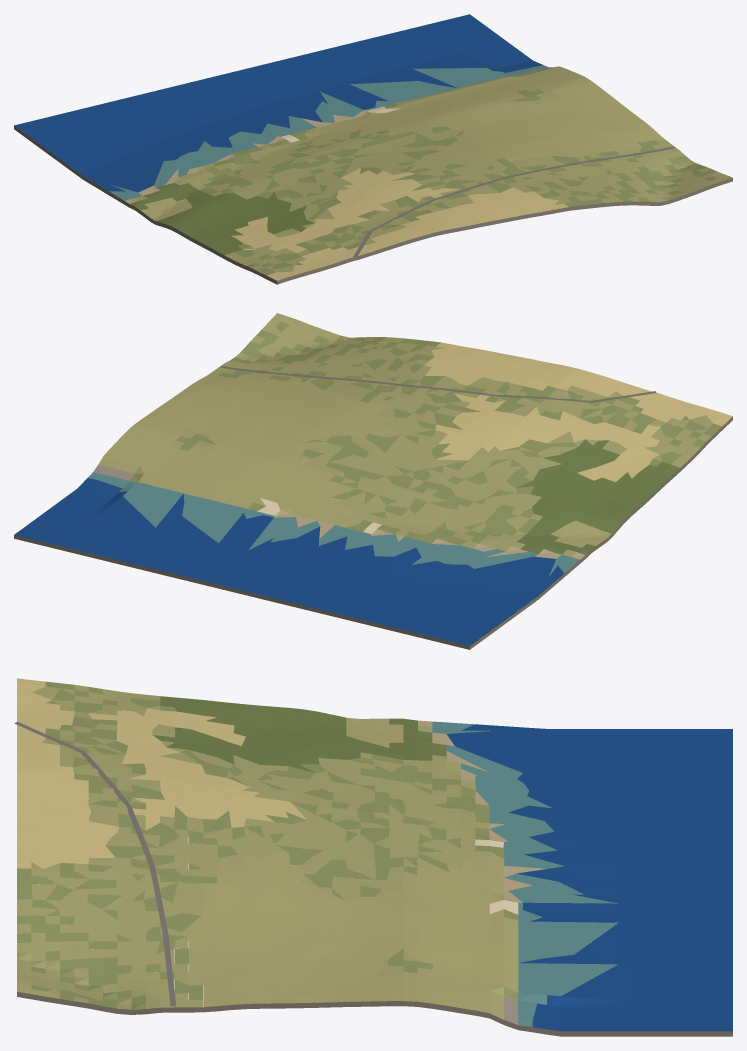
File: parca_+0_+2-uzak.glb
3 views of the same model, one above another, from view 1: azimuth 30°, elevation 25°; view 2: azimuth 150°, elevation 25°; view 3: azimuth 270°, elevation 25° (orthographic). The views are drawn at different scales.
Parts seen in each view (by area): view 1: parca_+0_+2_arazi_uzak, parca_+0_+2_yollar_uzak; view 2: parca_+0_+2_arazi_uzak, parca_+0_+2_yollar_uzak; view 3: parca_+0_+2_arazi_uzak, parca_+0_+2_yollar_uzak.
Boxes of the visible parts, x1,y1,x2,y2 form: parca_+0_+2_arazi_uzak: [14, 14, 732, 284]; parca_+0_+2_yollar_uzak: [353, 146, 674, 257]; parca_+0_+2_arazi_uzak: [14, 313, 732, 649]; parca_+0_+2_yollar_uzak: [220, 366, 656, 402]; parca_+0_+2_arazi_uzak: [17, 678, 732, 1036]; parca_+0_+2_yollar_uzak: [14, 722, 175, 1006].
Bounding box in the file's own units: 1000 × 107 × 1004.
